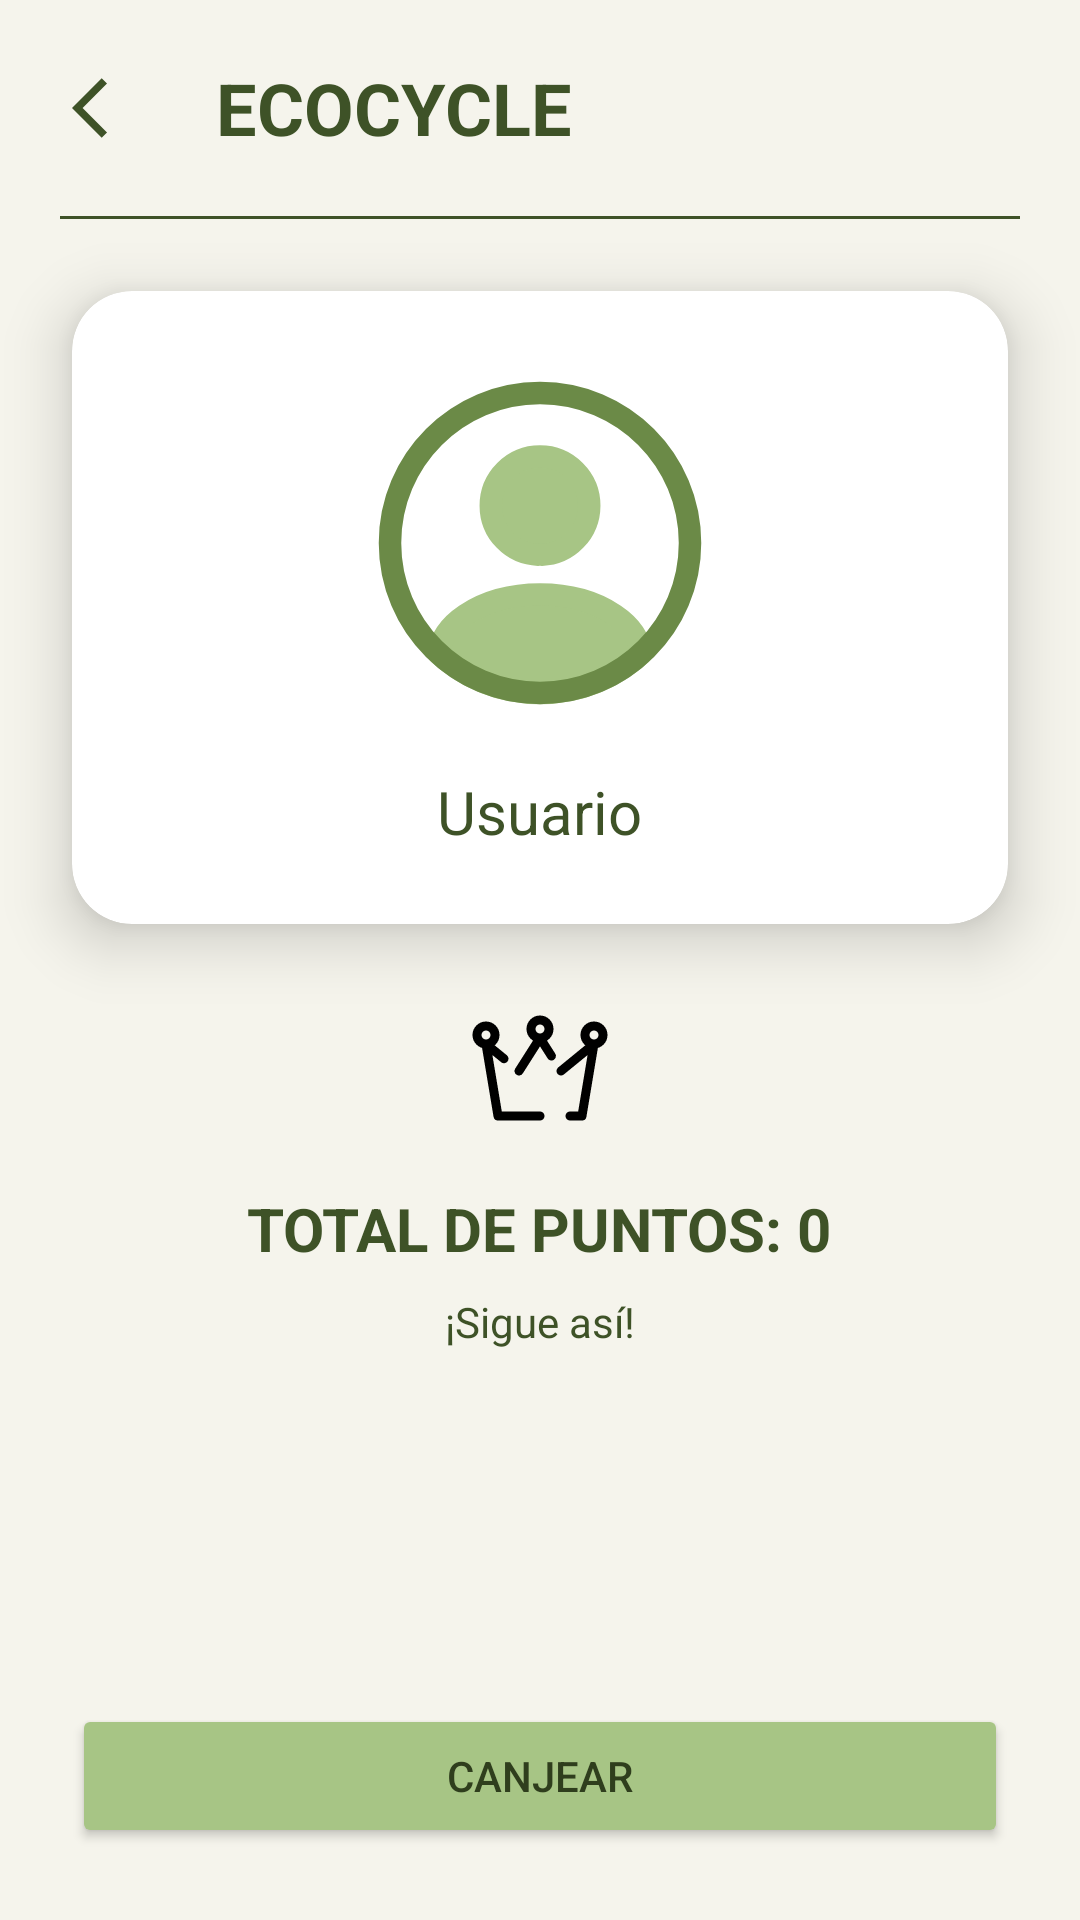

Where to tap for icons on this 1080×1920 app screen, as [x,y]:
back: [89,108]
crown: [540,1068]
profile: [540,543]
